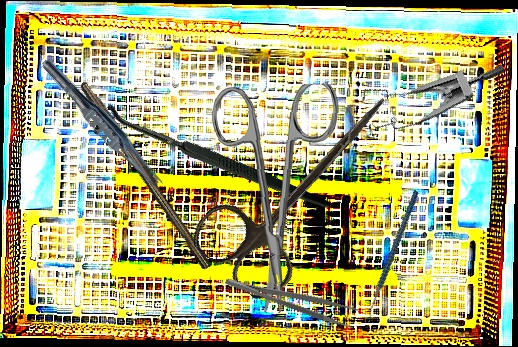Chopper: (331, 189, 458, 325)
Dressing Forceps: (223, 264, 360, 332)
Hook Surgical: (87, 36, 332, 292)
Iris Scissors: (185, 60, 420, 309), (204, 80, 340, 315)
Scalpel Handle: (75, 78, 218, 271)
Speculum: (346, 14, 508, 161)
Tissue Forceps: (34, 54, 172, 195)
